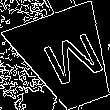M_SE: (31, 27, 104, 92)
